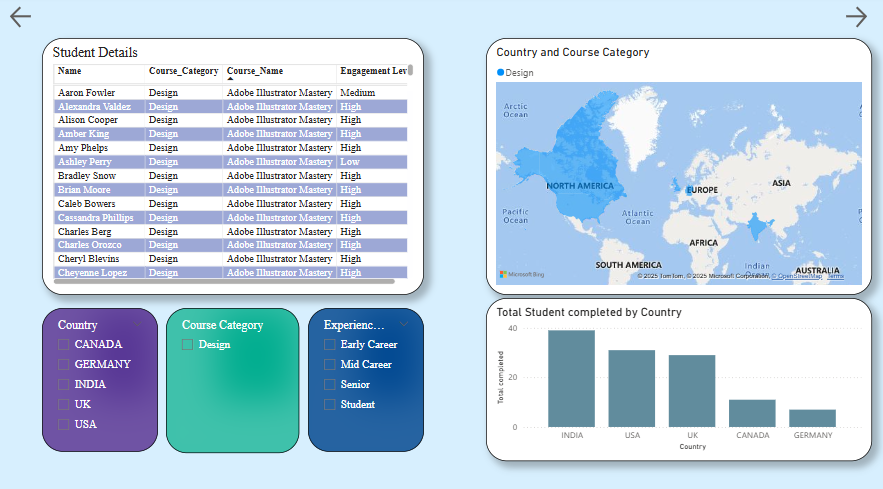

What the dashboard file says about the page in this screenshot:
{"tool":"powerbi","page":{"name":"Details","canvas":[1280,720],"ordinal":1},"visuals":[{"type":"tableEx","title":"Student Details","fields":{"Values":["Sheet1.Name","Sheet1.Course_Category","Sheet1.Course_Name","Sheet1.Engagement Level"]},"box":[66.2,60.5,550.1,370.1],"z":2000},{"type":"filledMap","title":"Country and Course Category","fields":{"Category":["Sheet1.Country"],"Series":["Sheet1.Course_Category"]},"box":[705.6,60.5,555.8,370.1],"z":3000},{"type":"slicer","fields":{"Values":["Sheet1.Country"]},"box":[66.2,449.3,167,207.4],"z":4000},{"type":"slicer","fields":{"Values":["Sheet1.Course_Category"]},"box":[244.8,449.3,191.5,208.8],"z":5000},{"type":"slicer","fields":{"Values":["Sheet1.Experience_Level"]},"box":[449.3,449.3,167,207.4],"z":6000},{"type":"columnChart","title":"Total Student completed by Country","fields":{"Category":["Sheet1.Country"],"Y":["Sheet1.Total completed"]},"box":[705.6,434.9,555.8,234.7],"z":7000},{"type":"actionButton","box":[15.8,10.1,99.4,40.3],"z":7001},{"type":"actionButton","box":[1218.2,10.1,61.9,40.3],"z":7002}]}

Visuals, with their boxes in screenshot pixels (x1, y1, x2, y2), scaled from the page's 1280x720 canvas onto the 883x489 screenshot:
"Student Details" tableEx: 46, 41, 425, 292
"Country and Course Category" filledMap: 487, 41, 870, 292
slicer - Sheet1.Country: 46, 305, 161, 446
slicer - Sheet1.Course_Category: 169, 305, 301, 447
slicer - Sheet1.Experience_Level: 310, 305, 425, 446
"Total Student completed by Country" columnChart: 487, 295, 870, 455
actionButton: 11, 7, 79, 34
actionButton: 840, 7, 882, 34
